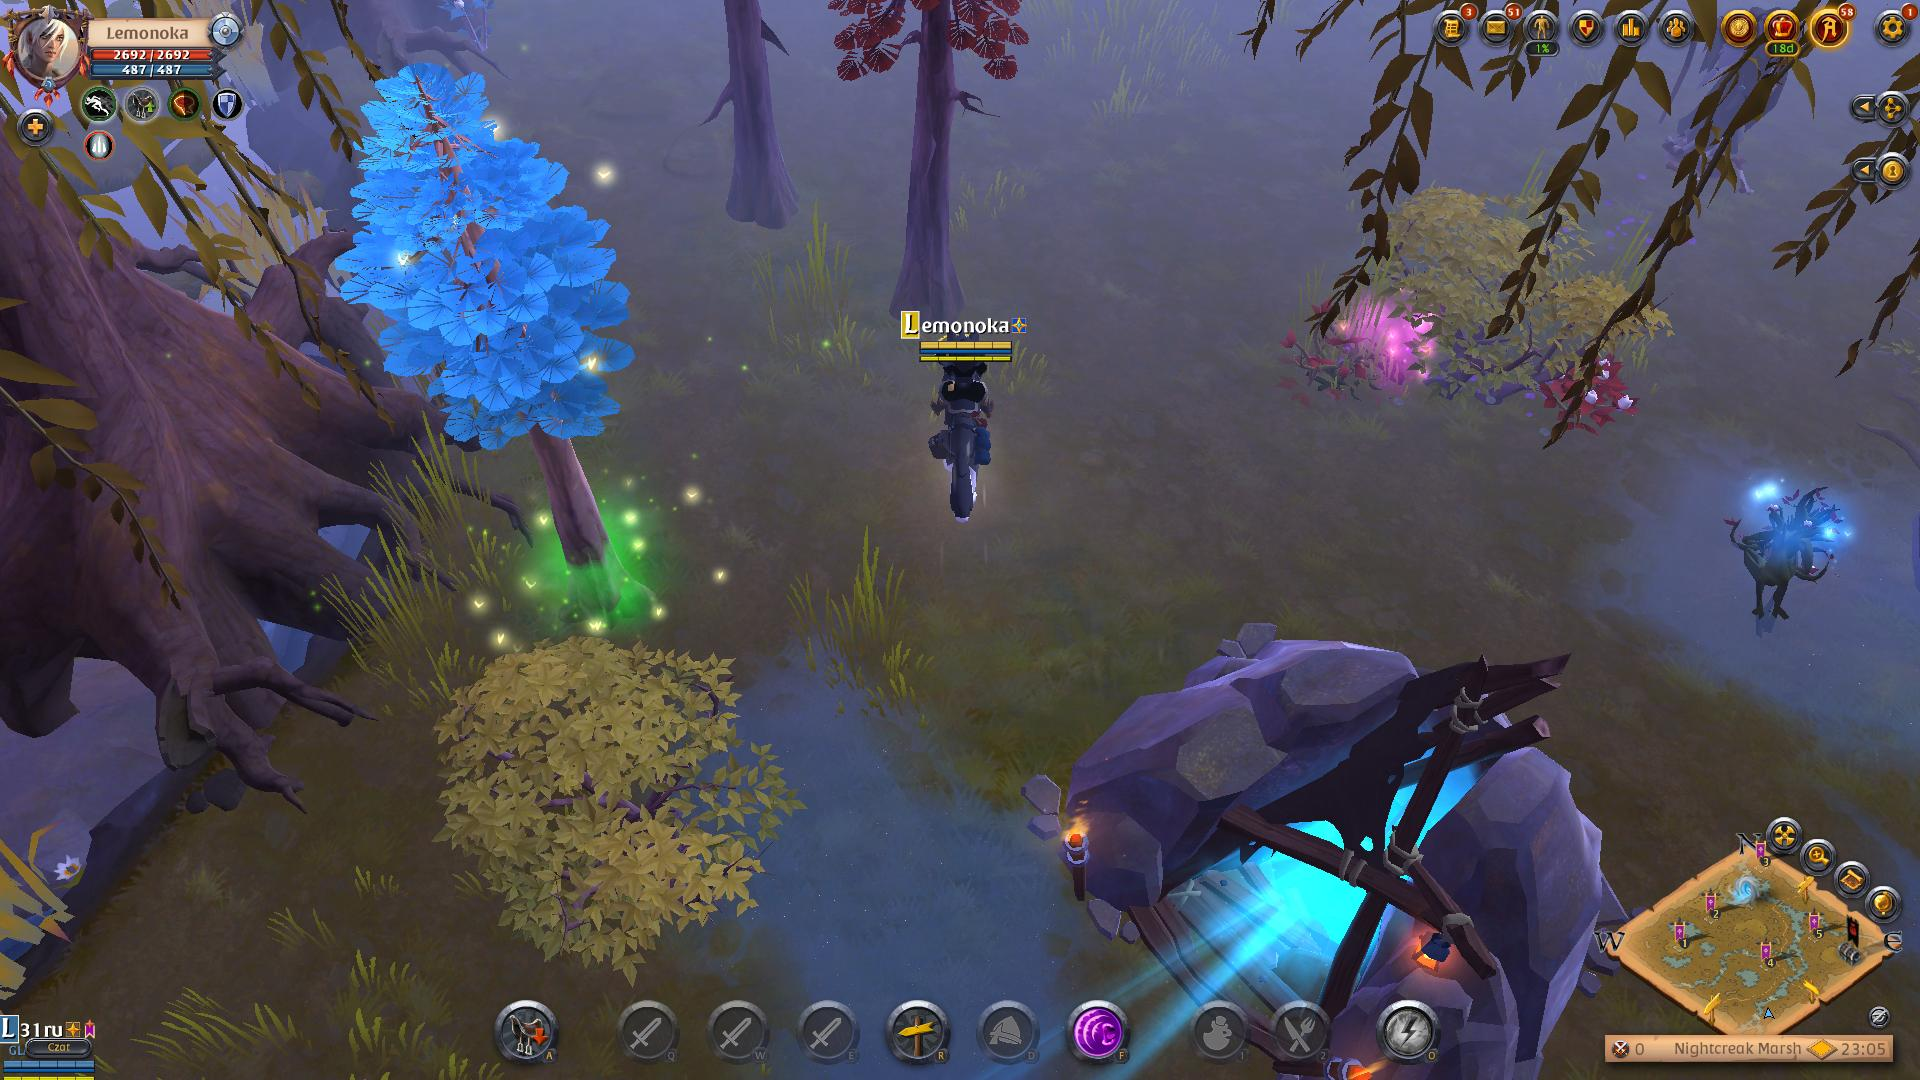wood tier 4: (320, 51, 650, 463)
